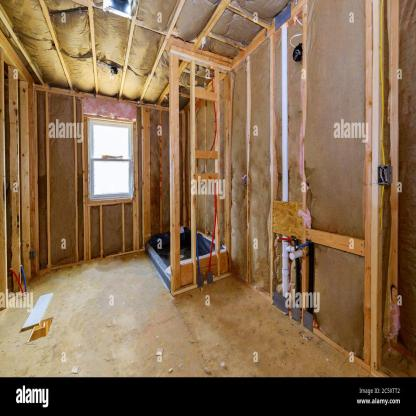PVC: (279, 23, 290, 201), (282, 235, 305, 298)
